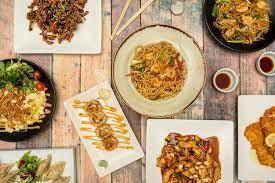Braised Crucian Carp: (112, 24, 204, 117), (64, 82, 145, 177), (145, 118, 232, 182), (13, 0, 101, 54), (0, 57, 56, 140), (203, 0, 275, 52)
